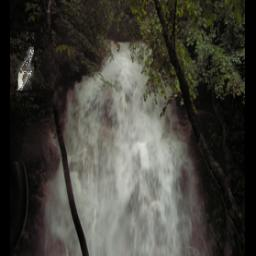Cuckoo: (16, 47, 33, 90)
